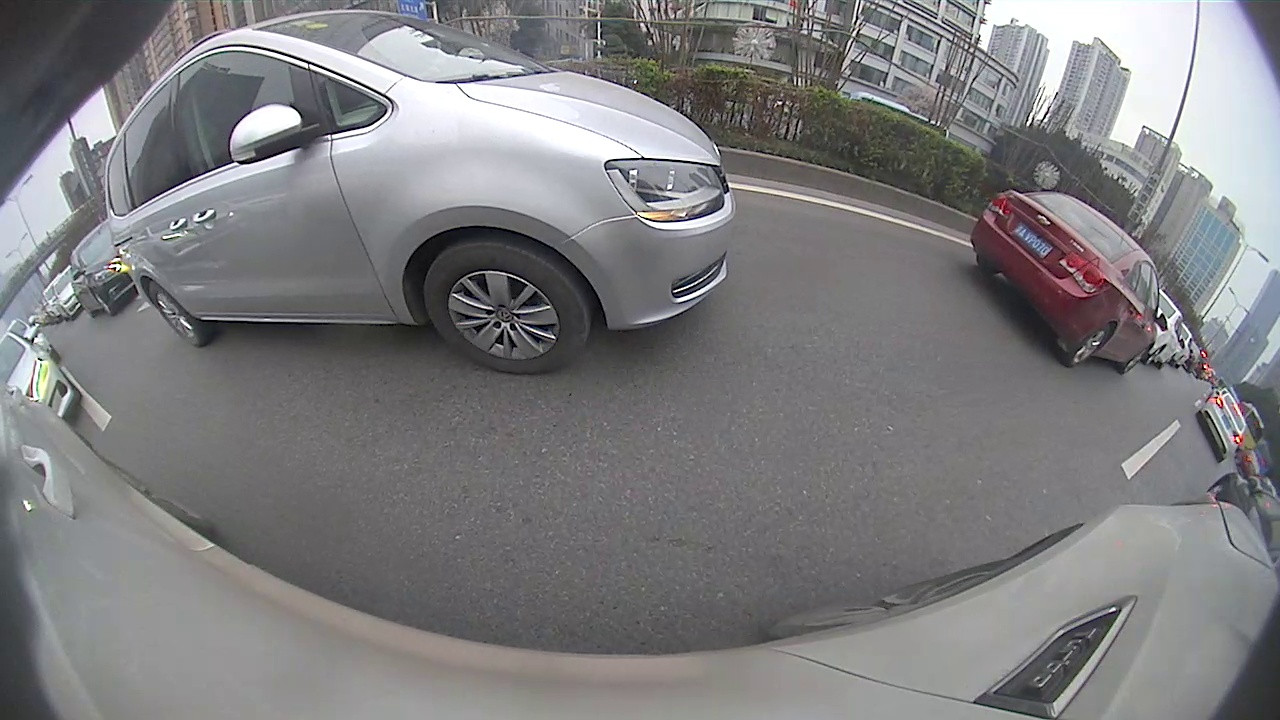car: (102, 8, 735, 375), (968, 190, 1168, 375), (68, 223, 138, 318), (1194, 383, 1249, 464)
front: (425, 241, 590, 372)
rear: (145, 277, 199, 347), (1068, 321, 1114, 367)
